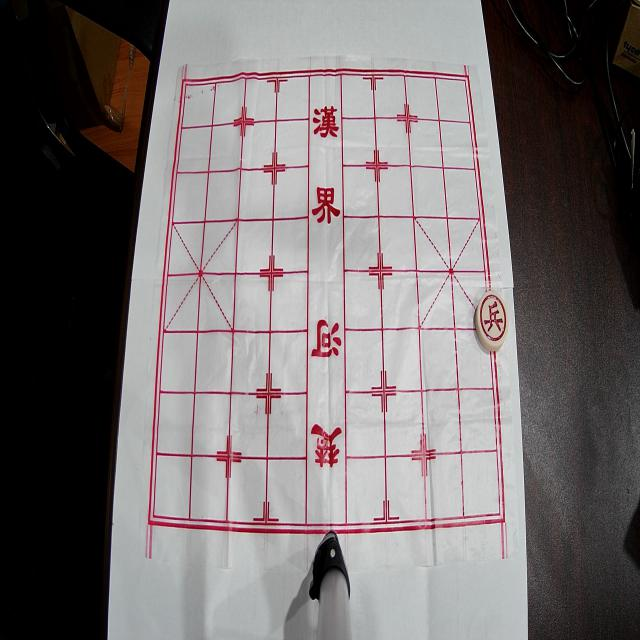red-soldier: (475, 290, 509, 352)
